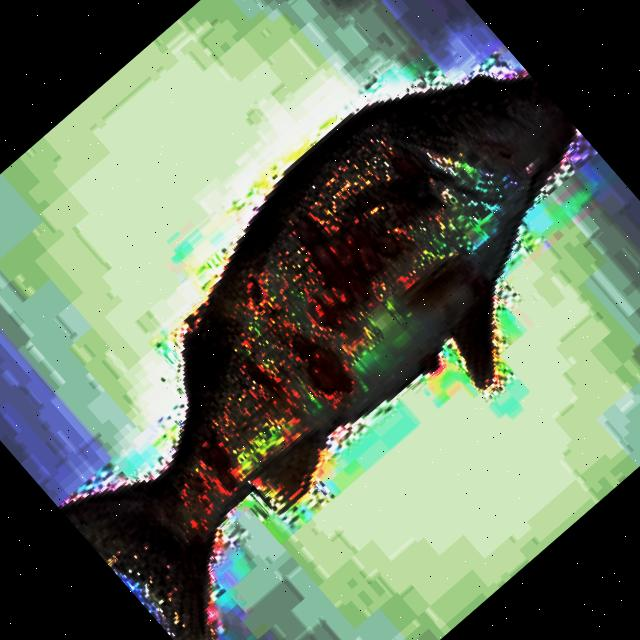Epizootic Ulcerative Syndrome -EUS-: (60, 77, 574, 640), (61, 77, 573, 640)
